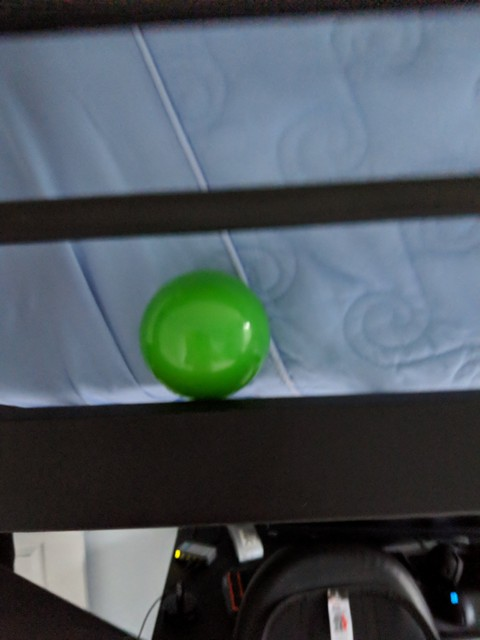ball: (142, 271, 270, 399)
